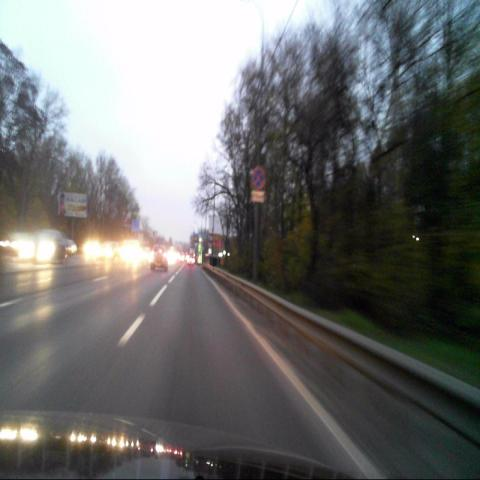3_27: (252, 166, 264, 189)
8_2_1: (251, 190, 264, 203)
